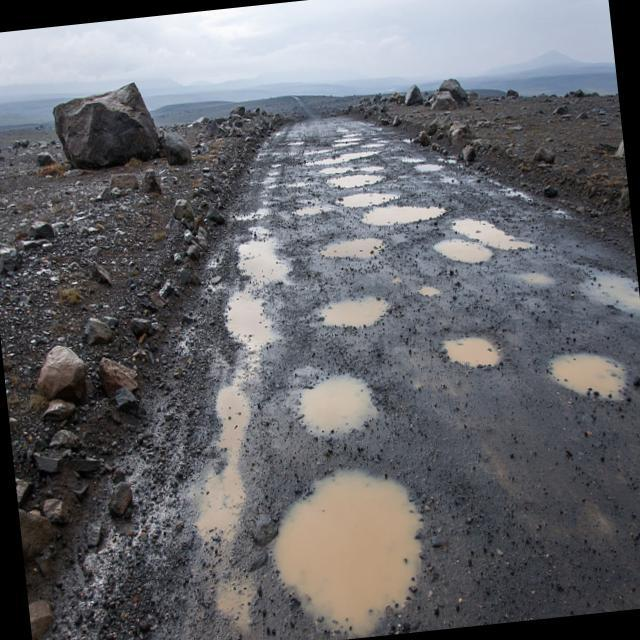Pothole: (194, 177, 316, 548), (262, 446, 455, 634), (558, 245, 640, 338), (312, 277, 408, 350), (277, 354, 366, 428), (536, 339, 622, 411), (454, 214, 534, 285), (433, 225, 504, 294), (422, 329, 518, 378), (313, 222, 407, 262), (347, 197, 454, 230), (414, 272, 463, 320), (310, 152, 362, 184), (343, 184, 410, 208), (328, 162, 394, 186), (260, 164, 302, 196), (393, 150, 438, 176), (406, 158, 454, 180), (308, 142, 356, 160), (276, 169, 310, 189), (289, 203, 321, 223), (445, 177, 479, 192)
